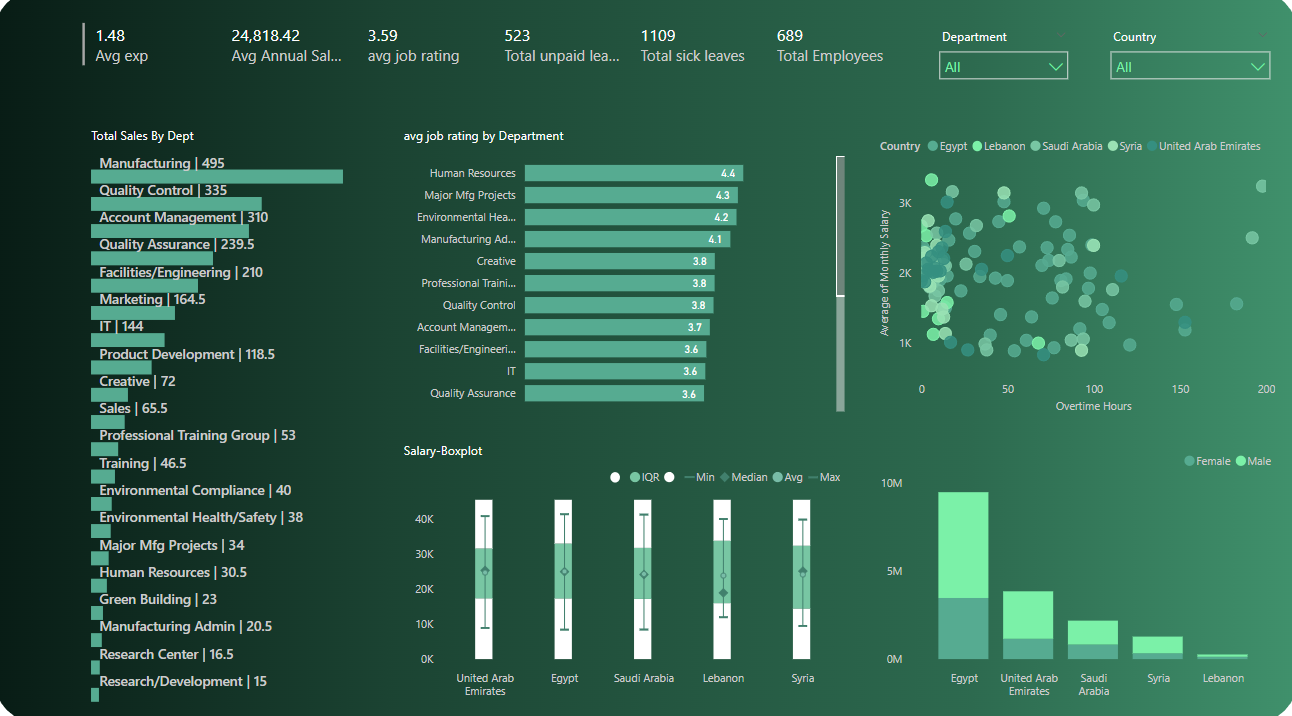

This screenshot's page, from the dashboard's own definition file:
{"tool":"powerbi","page":{"name":"Employee Report","canvas":[1280,720],"ordinal":0},"visuals":[{"type":"clusteredBarChart","title":"Total Sales By Dept","fields":{"Category":["Employees.Department"],"Y":["Employees.Lables Placeholder","Sum(Employees.Job Rating)"]},"box":[89.3,131.5,283.5,569.4],"z":0},{"type":"clusteredBarChart","fields":{"Y":["Employees.avg job rating"],"Category":["Employees.Department"]},"box":[396.9,131.5,442.8,284.7],"z":1000},{"type":"scatterChart","fields":{"Y":["Avg(Employees.Monthly Salary)"],"X":["Employees.Overtime Hours"],"Series":["Employees.Country"]},"box":[863.8,131.5,398.1,284.7],"z":2000},{"type":"lineStackedColumnComboChart","title":"Salary-Boxplot","fields":{"Y2":["Employees.Min Annual Salary","Employees.Median Annual Salary","Employees.Avg Annual Salary","Employees.Max Annual Salary"],"Category":["Employees.Country"],"Y":["Employees.25th percentile","Employees.Salary IQR","Employees.75 percentile"]},"box":[396.9,440.4,442.8,260.6],"z":3000},{"type":"columnChart","fields":{"Y":["Sum(Employees.Annual Salary)"],"Series":["Employees.Gender"],"Category":["Employees.Country"]},"box":[863.8,440.4,398.1,260.6],"z":4000},{"type":"multiRowCard","fields":{"Values":["Employees.Avg exp","Employees.Avg Annual Salary","Employees.avg job rating","Employees.Total unpaid leaves","Employees.Total sick leaves","Employees.Total Employees"]},"box":[80.8,24.1,825.2,72.4],"z":5000},{"type":"slicer","fields":{"Values":["Employees.Department"]},"box":[916.2,28.9,147.2,62],"z":6000},{"type":"slicer","fields":{"Values":["Employees.Country"]},"box":[1085,28.9,177.5,62],"z":7000}]}

Visuals, with their boxes in screenshot pixels (x1, y1, x2, y2), scaled from the page's 1280x720 canvas onto the 1292x716 screenshot:
"Total Sales By Dept" clusteredBarChart: <box>90,131,376,697</box>
clusteredBarChart - Employees.avg job rating x Employees.Department: <box>401,131,848,414</box>
scatterChart - Avg(Employees.Monthly Salary) x Employees.Overtime Hours: <box>872,131,1274,414</box>
"Salary-Boxplot" lineStackedColumnComboChart: <box>401,438,848,697</box>
columnChart - Sum(Employees.Annual Salary) x Employees.Gender: <box>872,438,1274,697</box>
multiRowCard - Employees.Avg exp x Employees.Avg Annual Salary: <box>82,24,914,96</box>
slicer - Employees.Department: <box>925,29,1073,90</box>
slicer - Employees.Country: <box>1095,29,1274,90</box>
